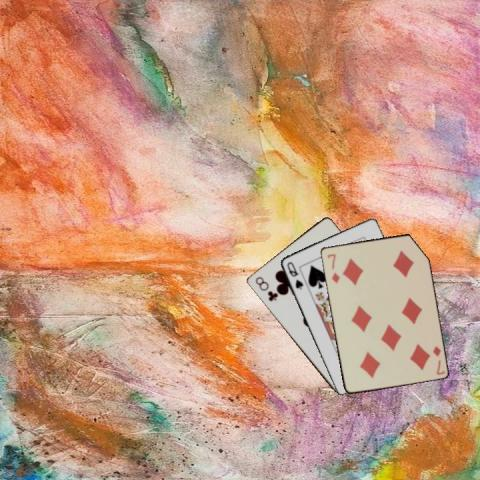7d: (324, 250, 341, 284), (429, 343, 446, 376)
8c: (252, 273, 279, 303)
Qs: (283, 258, 305, 290)
